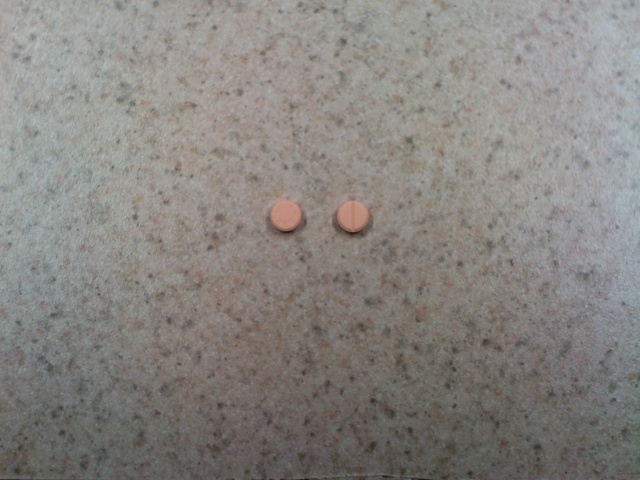|: (349, 198, 357, 234)
